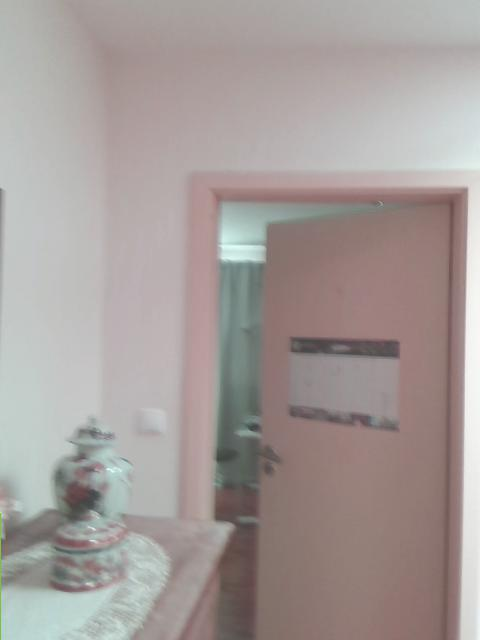semi_door: (178, 168, 479, 630)
